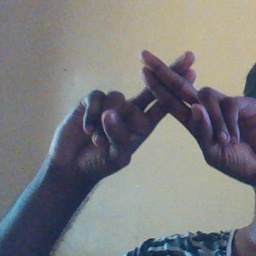F: (100, 40, 237, 158)
